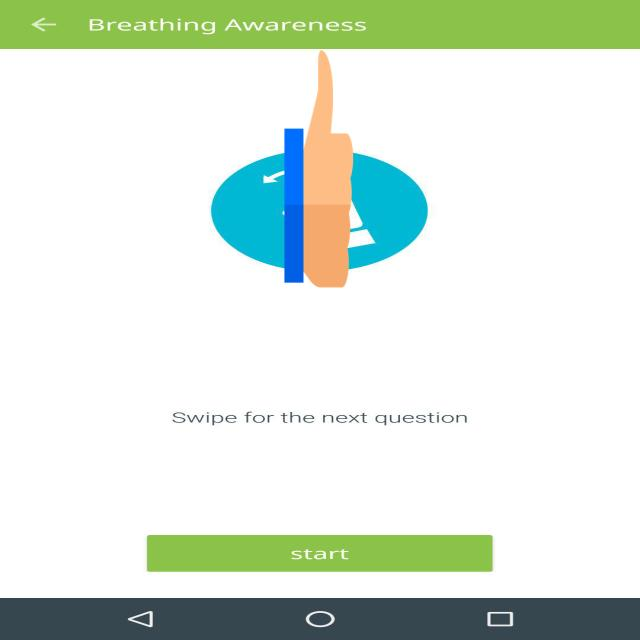privacy zuckering: (285, 44, 353, 294)
